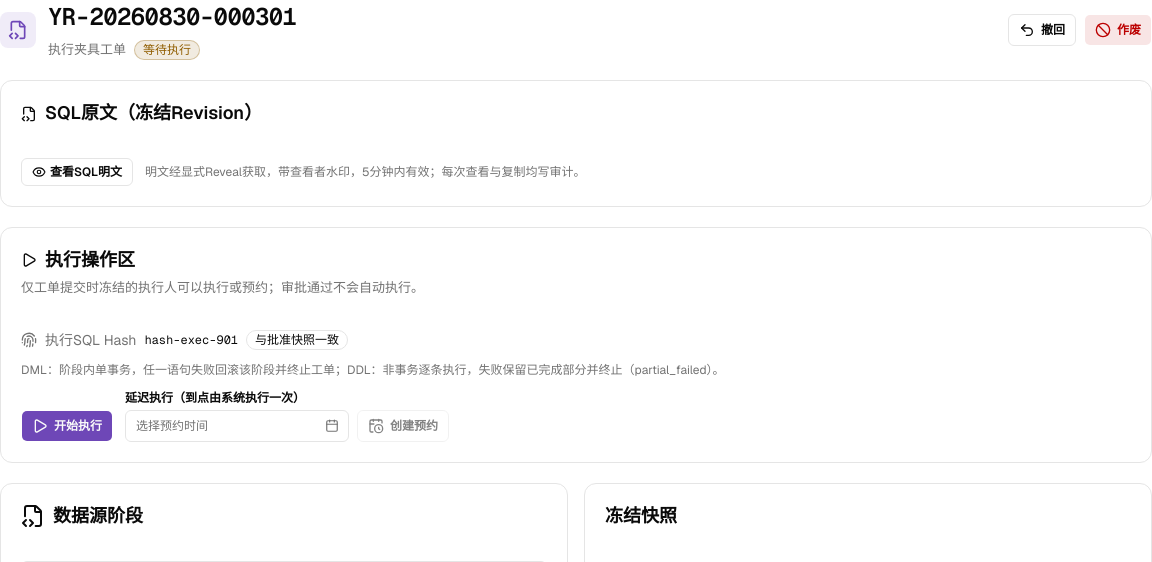
execution run interactions › runs the happy path: execute → preflight hash confirmation → succeeded statements
Click the button with test id "execution-start" at (67, 426), box [21, 410, 113, 442]
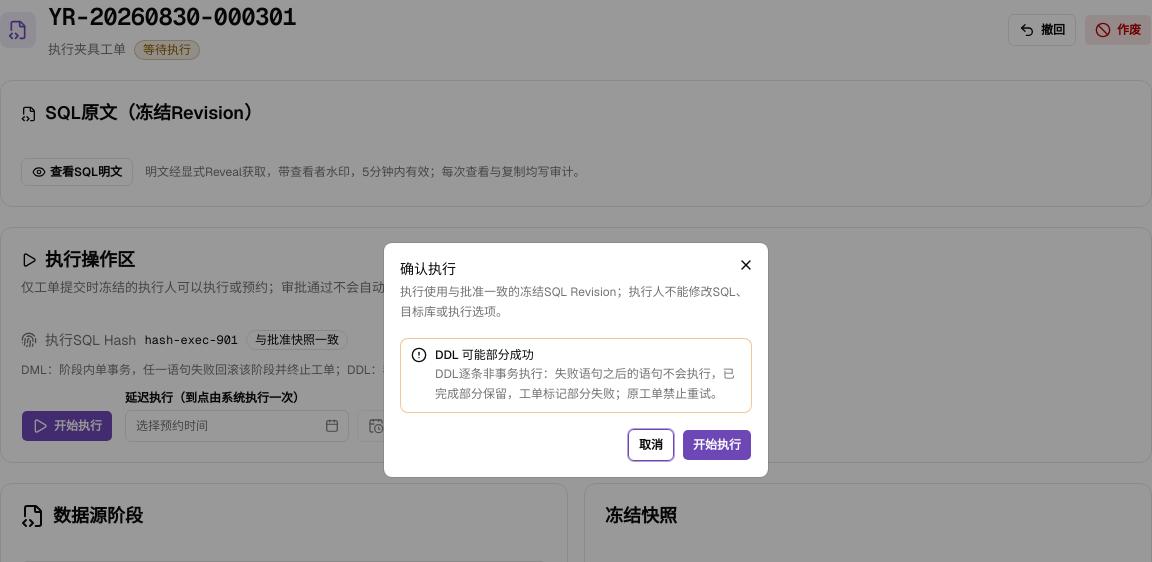
Click the button with test id "execution-confirm-run" at (717, 445), box [682, 429, 752, 461]
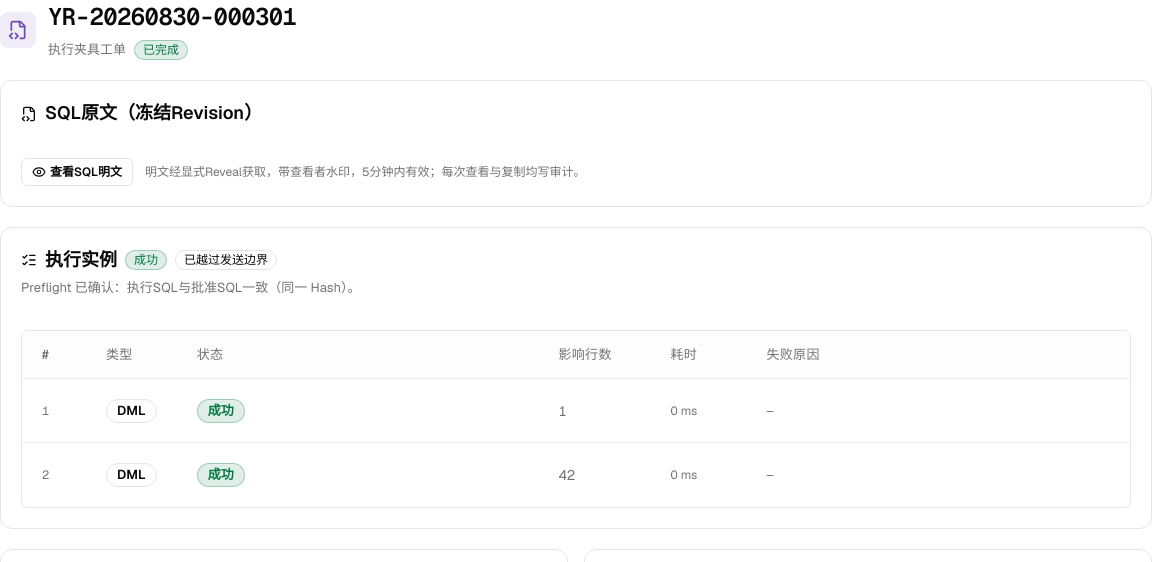
Expected: the element with test id "execution-attempt-card" shows "成功", [134, 252, 158, 268]
Expected: the row with test id "execution-statement-1" shows "成功", [208, 402, 234, 419]
Expected: the row with test id "execution-statement-2" shows "成功", [208, 466, 234, 483]
